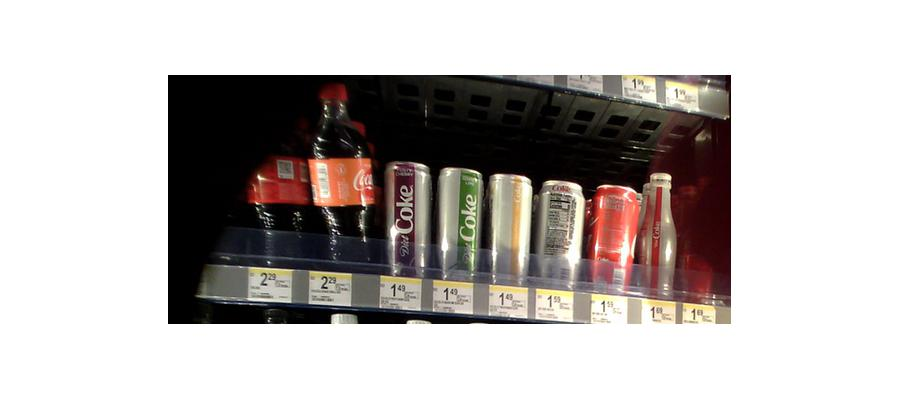bottle: (312, 78, 376, 267), (250, 114, 311, 268), (587, 179, 638, 293), (434, 166, 484, 280), (383, 161, 431, 277), (538, 182, 587, 292), (639, 170, 680, 301), (489, 170, 534, 285)
